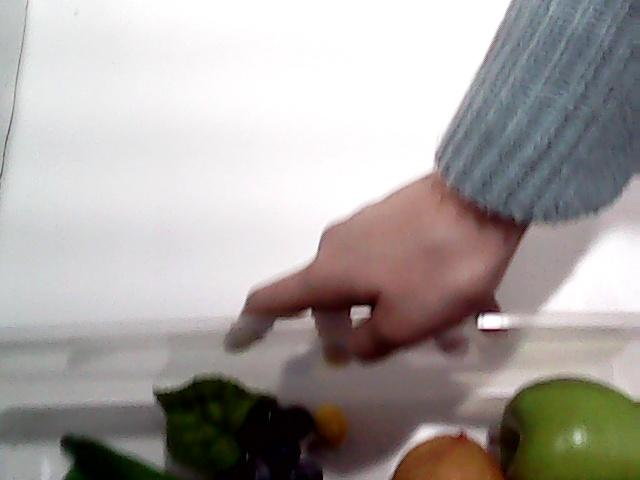apple: (492, 366, 640, 478)
grape: (151, 368, 327, 480)
pepper: (55, 430, 253, 480)
potato: (388, 430, 504, 480)
